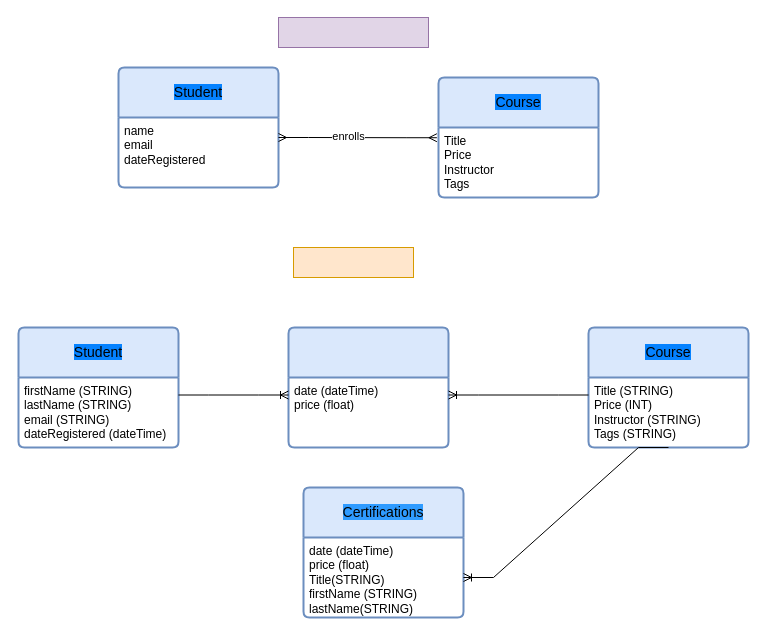
Image size: 766x636. Some labels were removed from this diagram. Each missing label, with the box of its shape:
CONCEPTUAL MODEL: (278, 16, 428, 48)
Enrollment: (287, 326, 449, 448)
LOGICAL MODEL: (292, 246, 414, 278)
